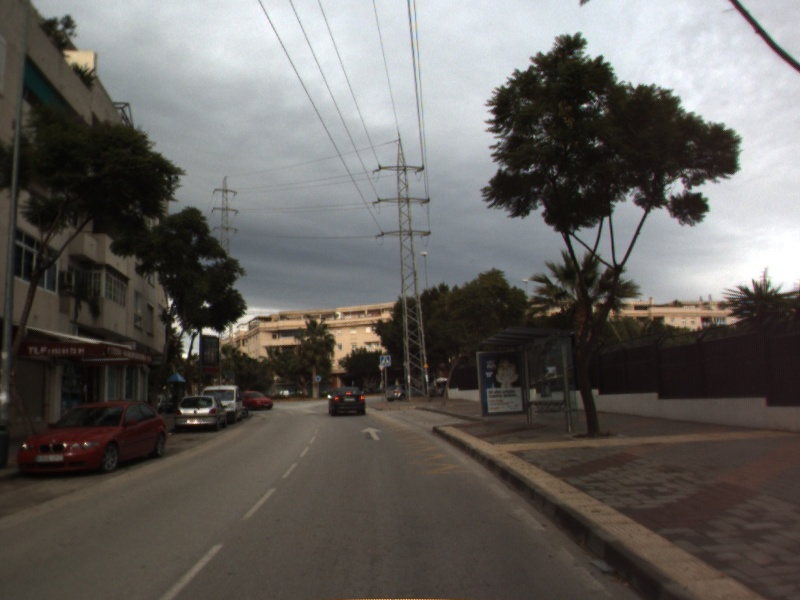STRAIGHT: (358, 424, 385, 442)
